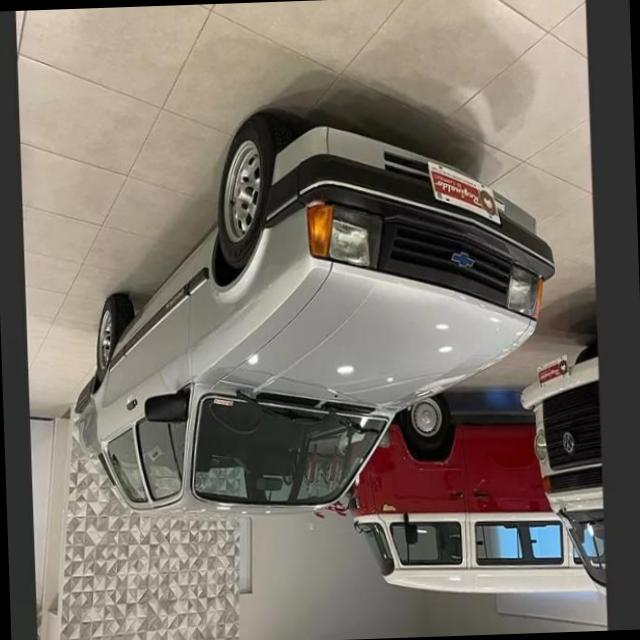car: (57, 95, 564, 521)
